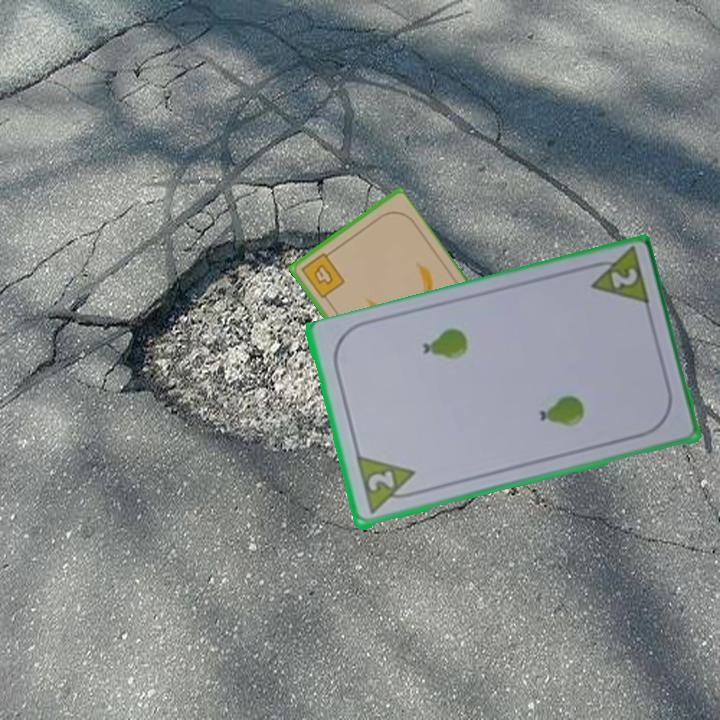2p: (580, 246, 653, 310), (364, 467, 397, 495)
4b: (297, 247, 348, 301)
